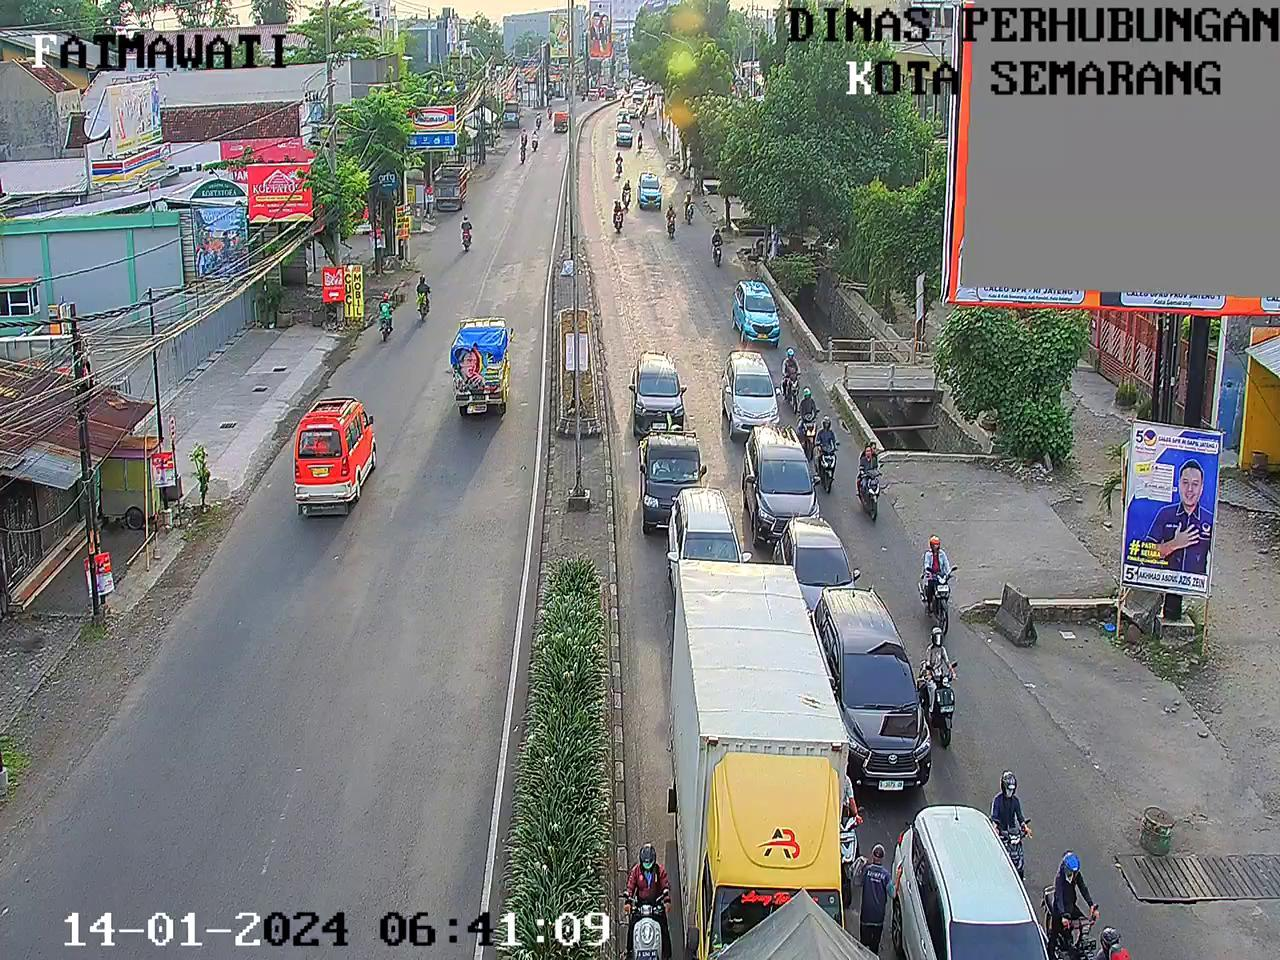car: (884, 805, 1054, 960), (810, 587, 935, 791), (738, 422, 824, 546), (769, 513, 859, 614), (631, 429, 705, 535), (665, 482, 753, 563), (718, 350, 784, 442), (628, 349, 690, 436), (724, 278, 789, 349), (633, 169, 665, 210), (613, 124, 634, 146), (616, 108, 631, 123), (628, 103, 639, 119), (632, 94, 644, 104)
motorcycle: (616, 834, 680, 960), (916, 625, 972, 755), (1039, 846, 1100, 959), (988, 768, 1041, 879), (913, 529, 967, 627), (852, 442, 894, 524), (841, 767, 863, 905), (812, 413, 844, 493), (794, 385, 823, 456), (777, 347, 807, 410), (1105, 922, 1133, 960), (707, 226, 725, 269), (663, 203, 681, 240), (682, 189, 699, 226), (612, 197, 626, 234), (620, 181, 634, 211), (613, 150, 626, 181), (634, 132, 646, 155), (639, 115, 647, 128), (620, 96, 626, 106), (645, 100, 650, 111), (642, 108, 646, 115)
truck: (661, 558, 850, 955), (713, 886, 882, 960)
